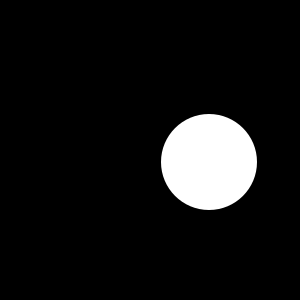rectangle: (161, 114, 257, 210)
